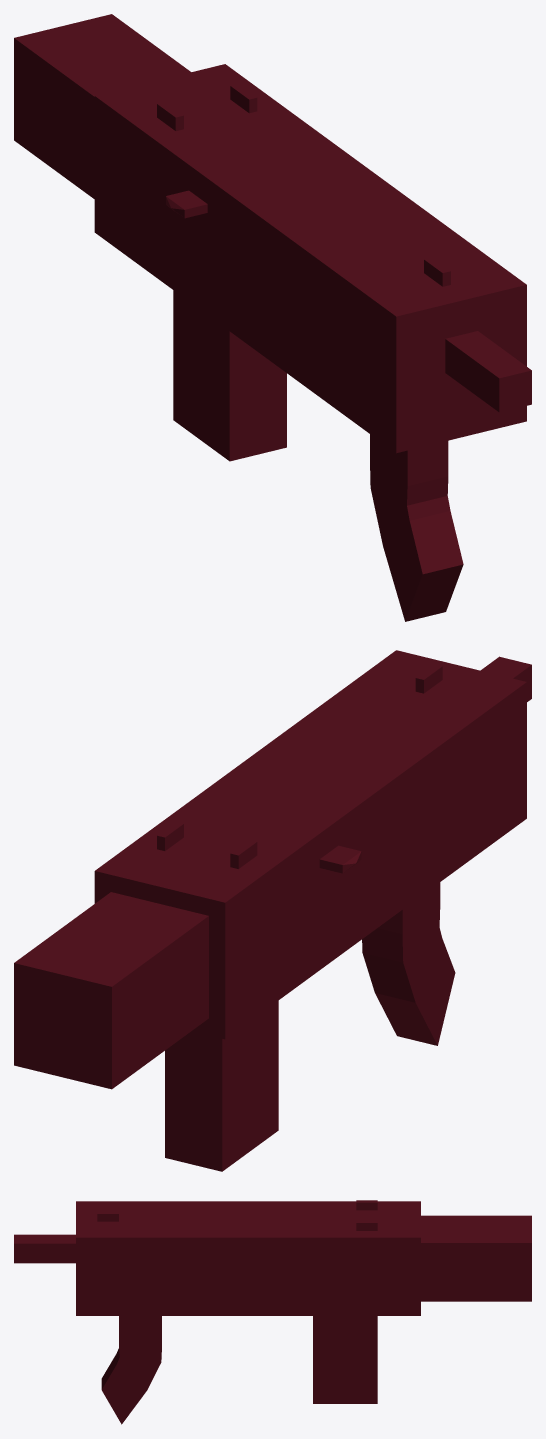
The model's file is Rifle.gltf.
3 views of the same model, one above another, from view 1: azimuth 30°, elevation 25°; view 2: azimuth 150°, elevation 25°; view 3: azimuth 270°, elevation 25° (orthographic). The views are drawn at different scales.
Visible parts, largest first — view 1: Rifle; view 2: Rifle; view 3: Rifle.
Part boxes in pixels (<box>): Rifle: <box>14,14,531,621</box>; Rifle: <box>14,650,531,1171</box>; Rifle: <box>14,1200,531,1424</box>.
Bounding box in the file's own units: 0.3621 × 0.7909 × 1.8.
